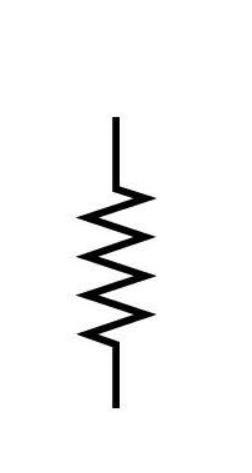resistor: (62, 148, 174, 360)
